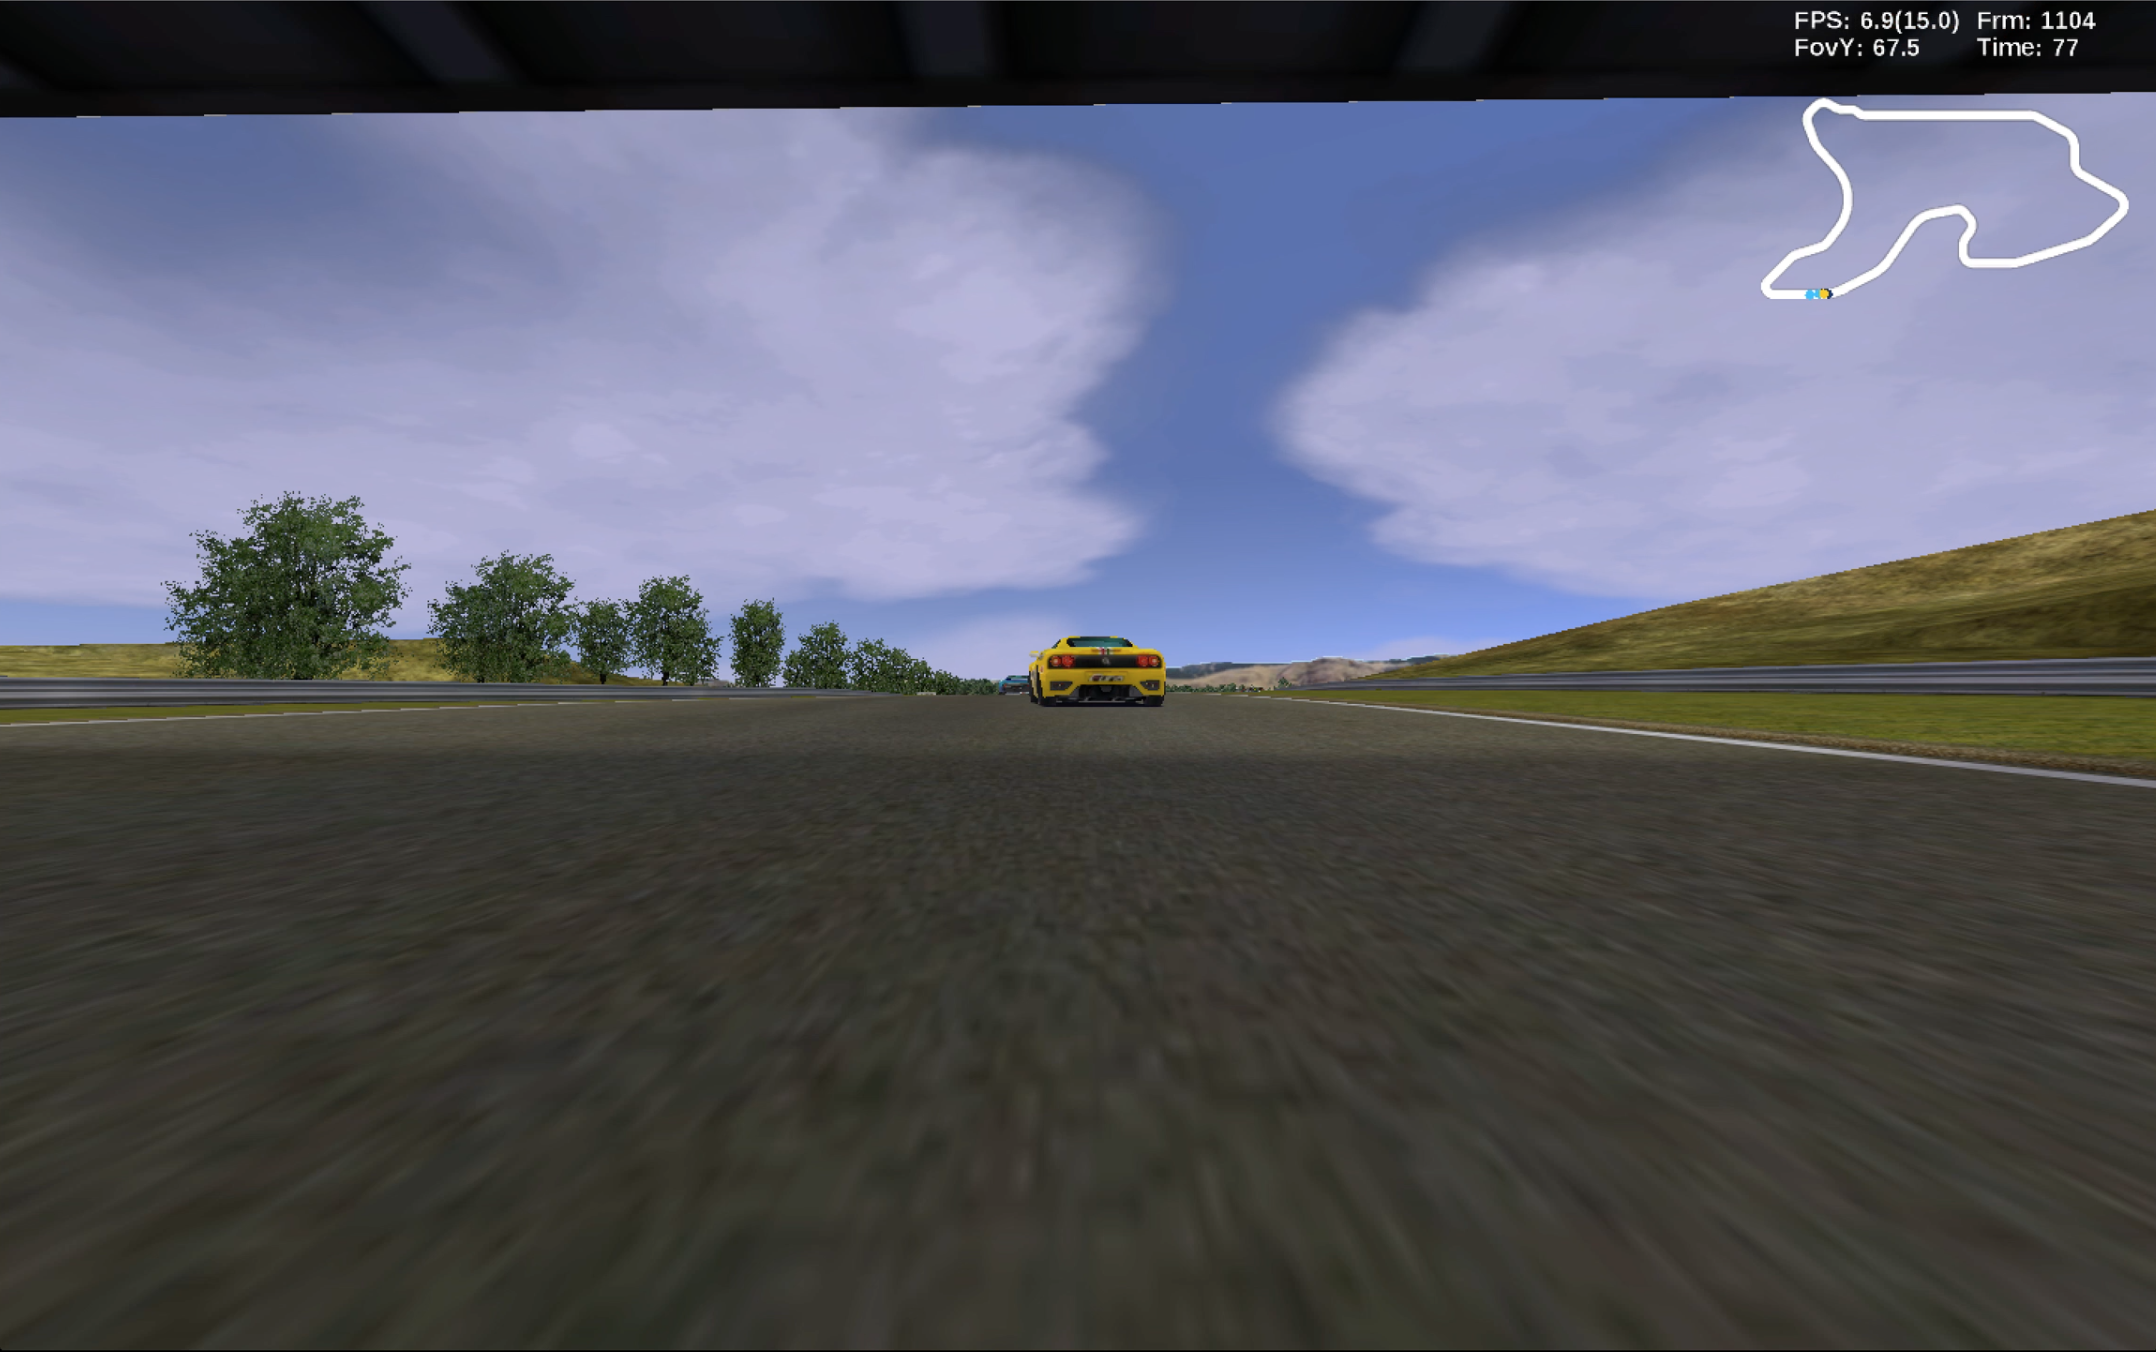Cavallo360: (1031, 636, 1168, 706)
Lynx220: (997, 674, 1031, 695)
